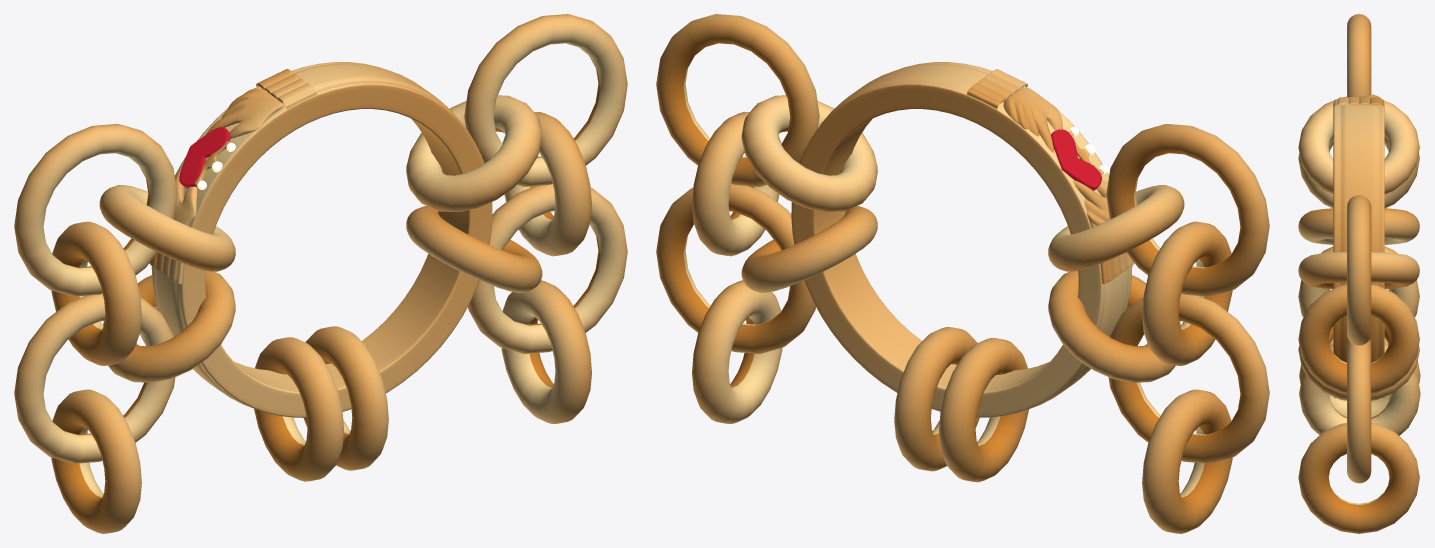
Rendered from hashigo_r_b.fbx.
The picture shows the model from 3 angles, left to right: view 1: azimuth 30°, elevation 25°; view 2: azimuth 150°, elevation 25°; view 3: azimuth 270°, elevation 25°; orthographic projection. The views are drawn at different scales.
Visible parts, largest first — view 1: polySurface3; view 2: polySurface3; view 3: polySurface3.
Part boxes in pixels (x1,y1,x2,y2): polySurface3: (14,14,627,533); polySurface3: (656,14,1269,533); polySurface3: (1298,14,1420,533).
Size of the model in its own units: 19.09 by 12.02 by 4.02.
